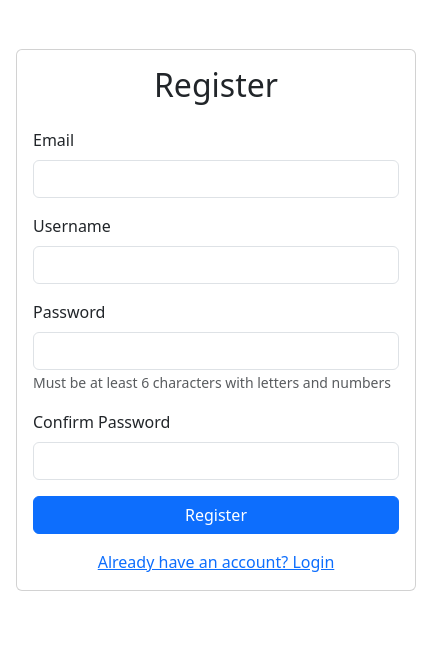
Register Component › displays error when passwords do not match
The image size is (433, 645).
Type "test@example.com" into the field labelled "Email" at (216, 179), box [33, 160, 399, 198]
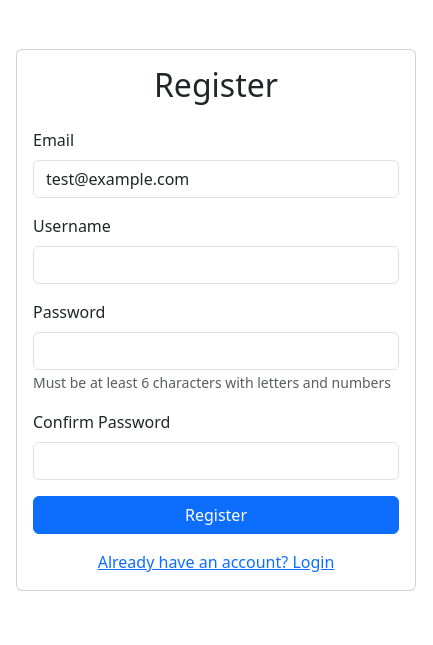
Type "testuser" into the field labelled "Username" at (216, 265), box [33, 246, 399, 284]
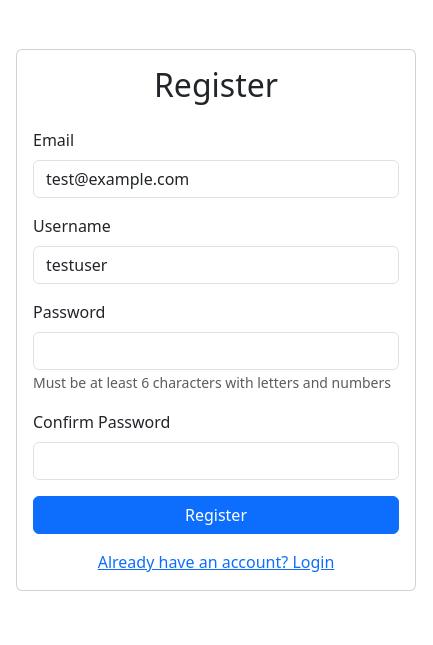
Type "password123" into the password field labelled "Password" at (216, 351), box [33, 332, 399, 370]
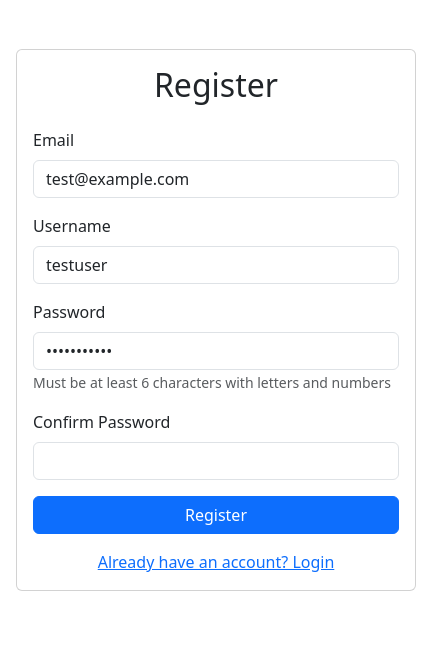
Type "password456" into the password field labelled "Confirm Password" at (216, 461), box [33, 442, 399, 480]
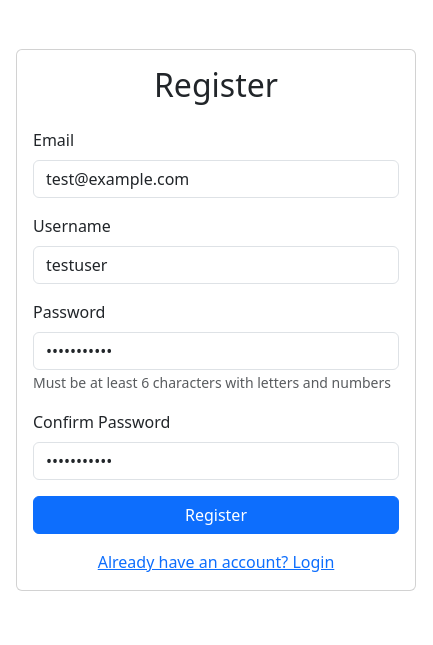
Click the button "Register" at (216, 515), box [33, 496, 399, 534]
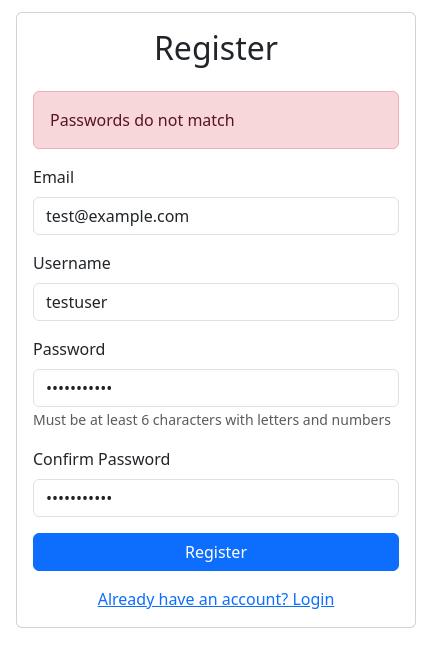
Check: the text "Passwords do not match" is shown, box [33, 91, 399, 149]
